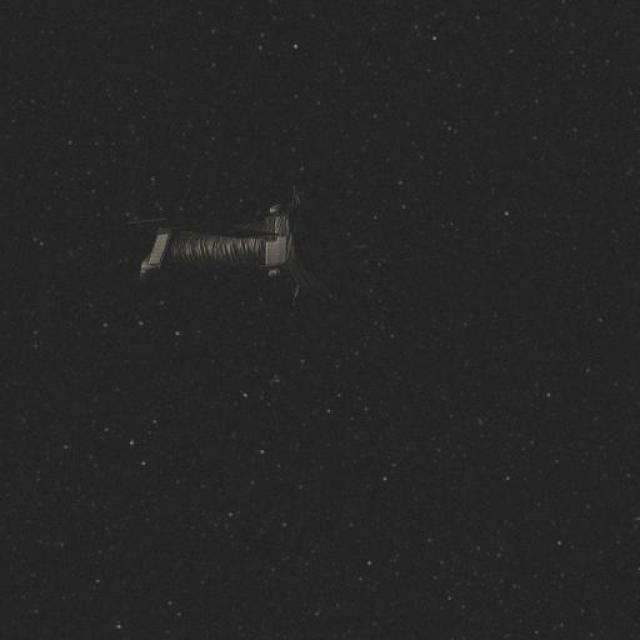xmm_newton: (100, 174, 390, 324)
